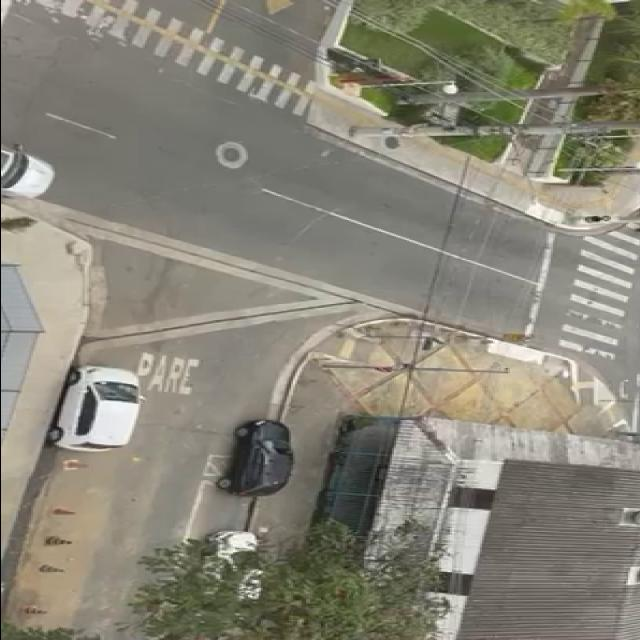car: (36, 362, 156, 462), (188, 527, 278, 640), (204, 414, 310, 502), (0, 140, 65, 208)
